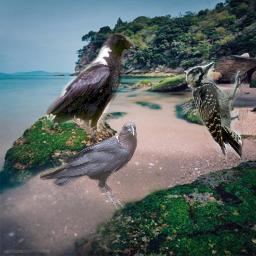Crow: (42, 30, 135, 134), (40, 122, 137, 209)
Woodpecker: (185, 62, 248, 161)
